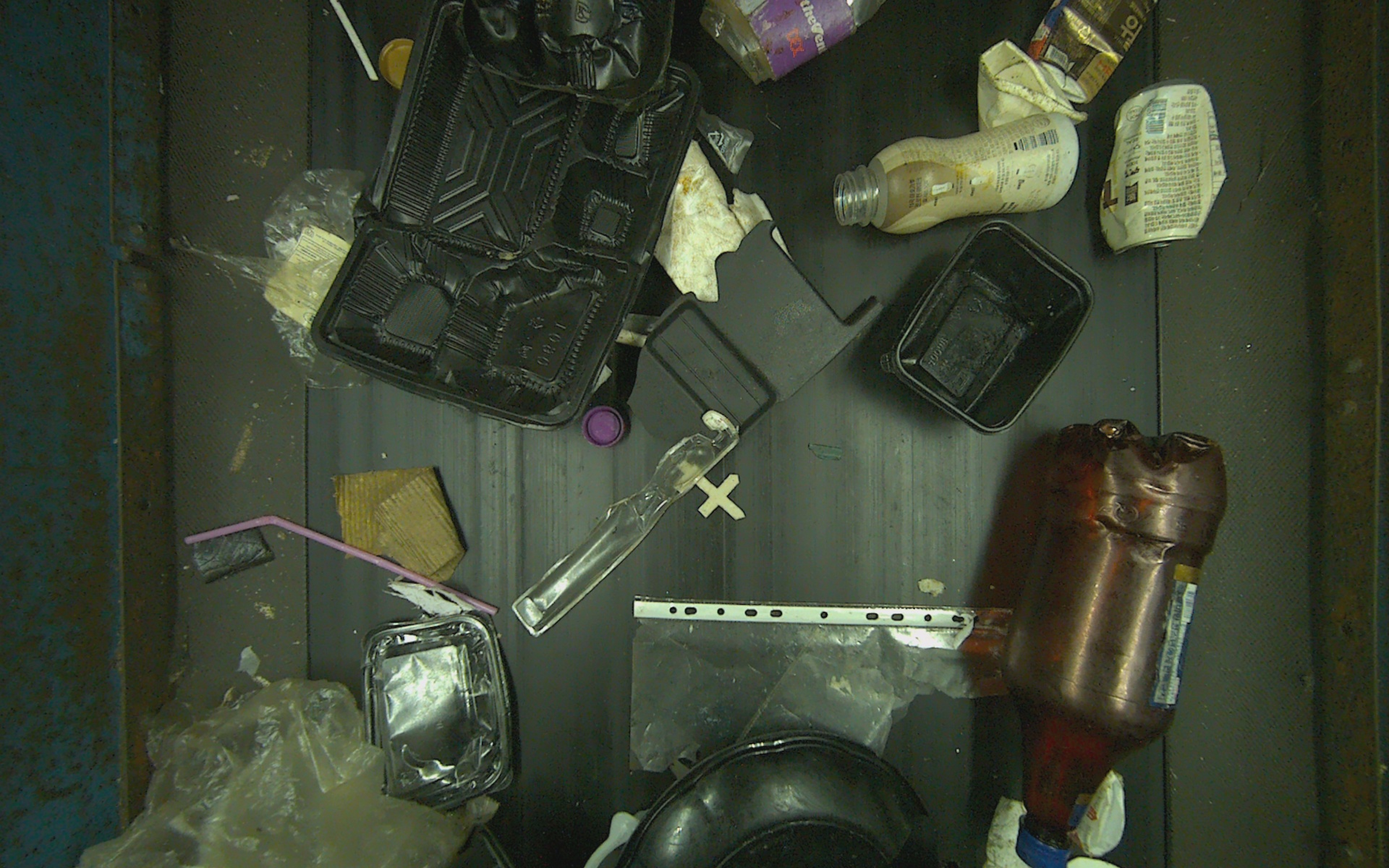PET: (1001, 419, 1228, 868), (834, 113, 1079, 234)
PET-C: (511, 410, 739, 638), (361, 610, 513, 811)
PP-B: (311, 0, 702, 430), (880, 218, 1095, 435)
